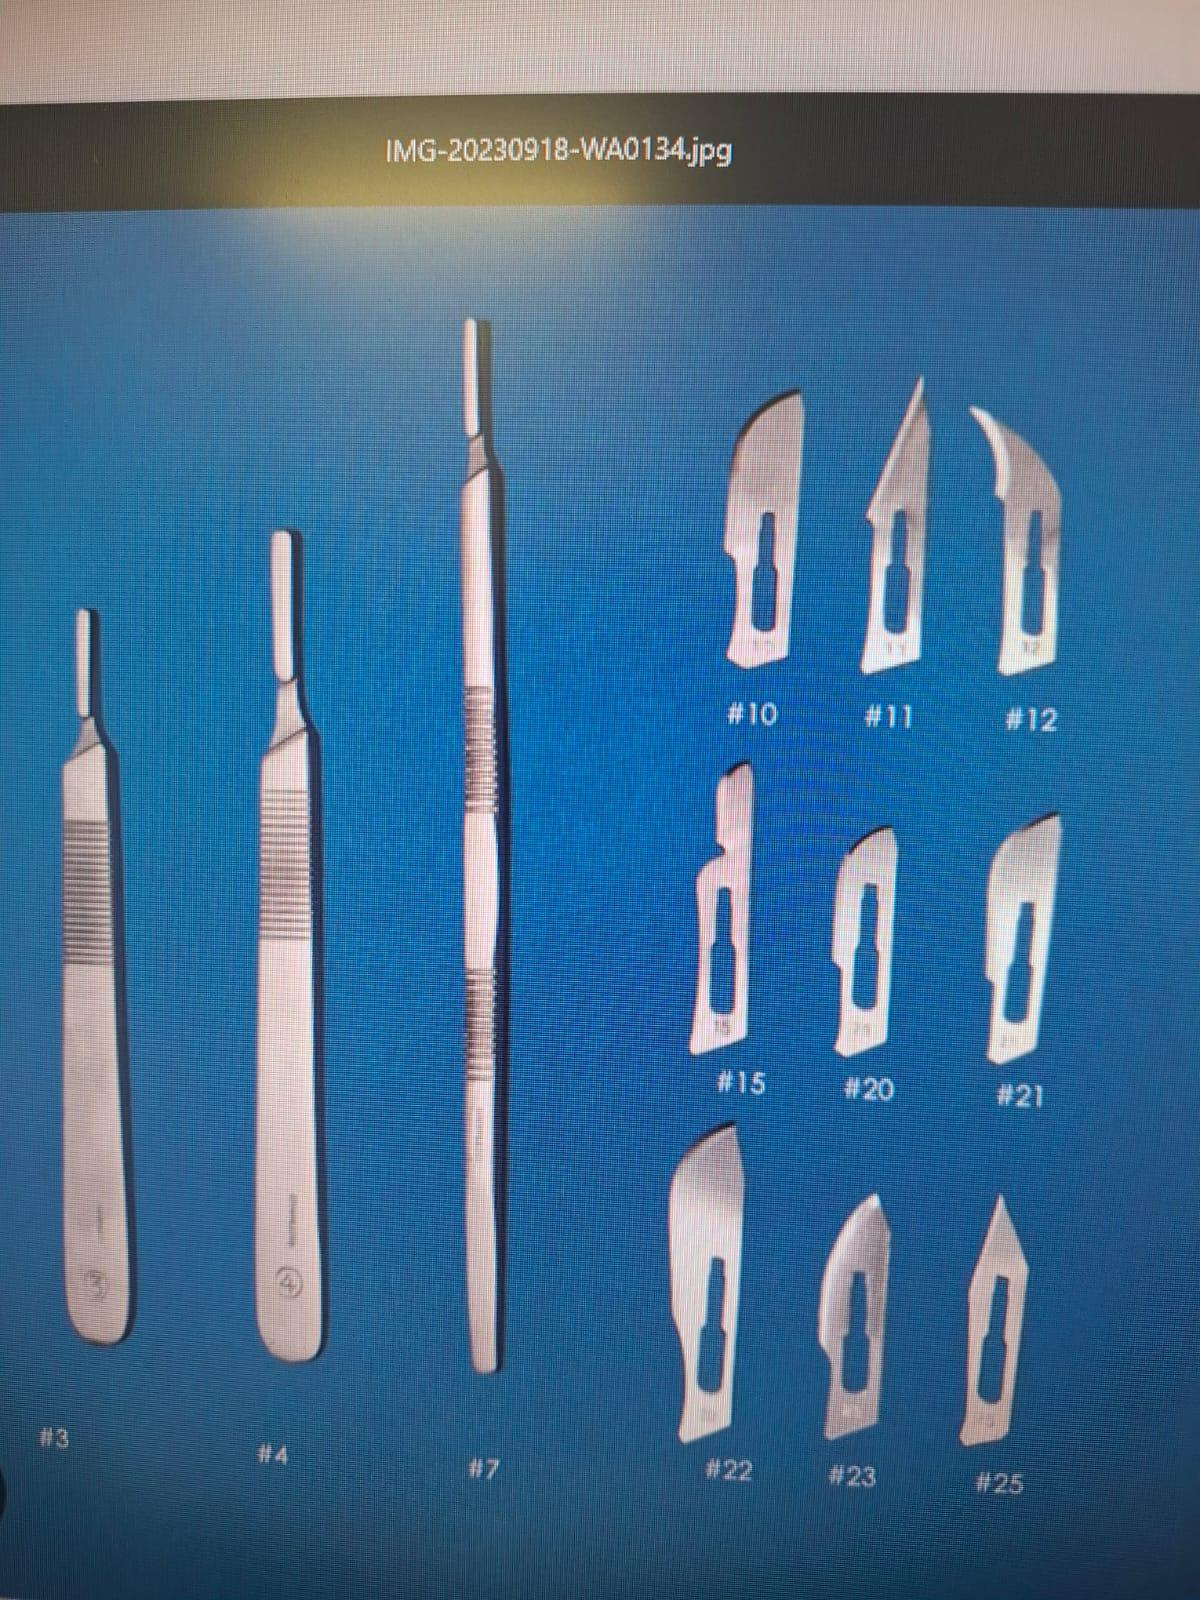Knife Blade: (645, 1110, 767, 1458), (710, 370, 815, 678), (850, 375, 953, 688), (970, 400, 1090, 662), (815, 808, 930, 1078), (980, 802, 1092, 1078), (805, 1190, 920, 1450), (950, 1188, 1040, 1450)
Knife Handle: (18, 588, 188, 1375), (250, 515, 350, 1372)
